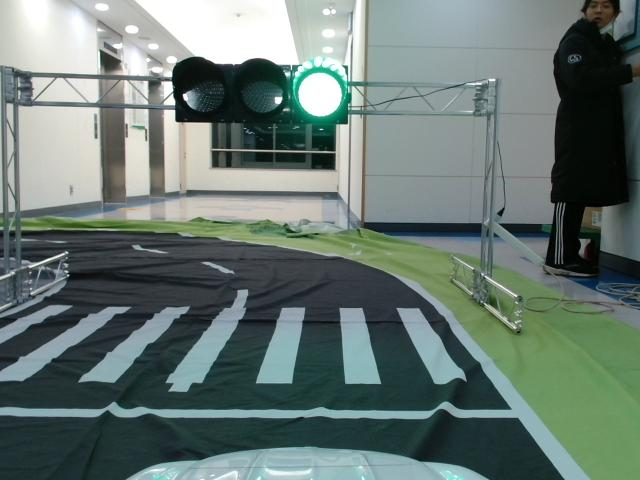crosswalk: (1, 304, 471, 382)
traffic light-green-: (172, 56, 350, 124)
